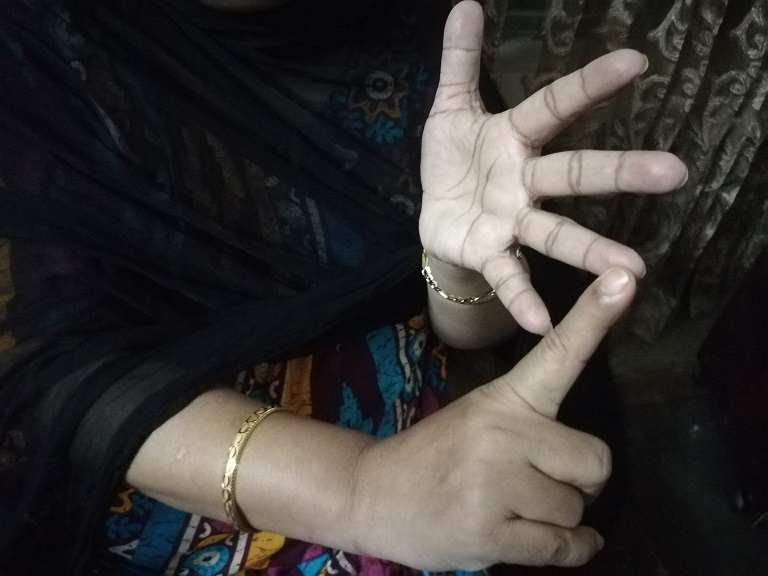e: (414, 3, 687, 576)
